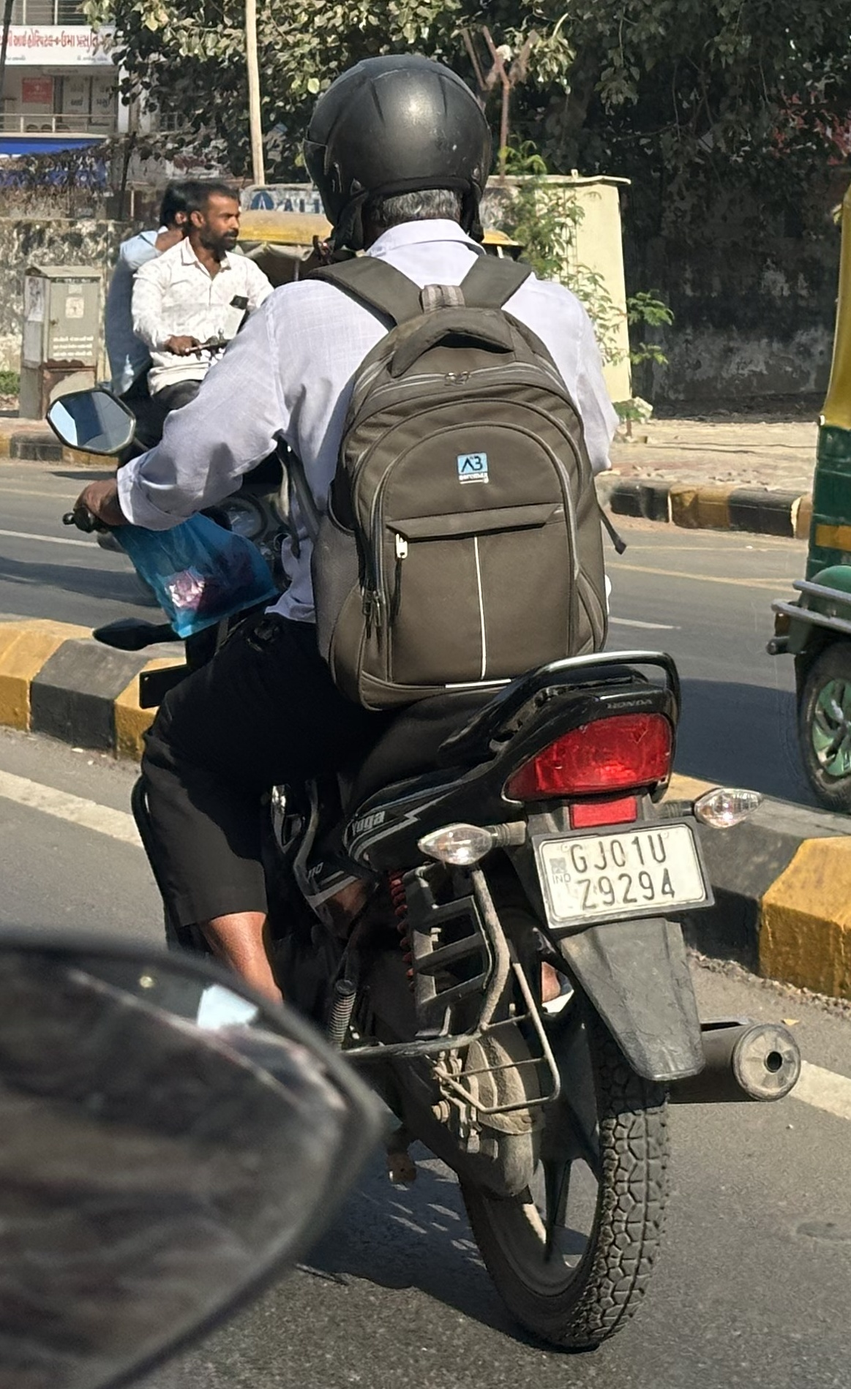BikeWithRider: (34, 42, 818, 1365)
Helmet: (290, 42, 507, 264)
NoHelmet: (149, 165, 255, 257)
